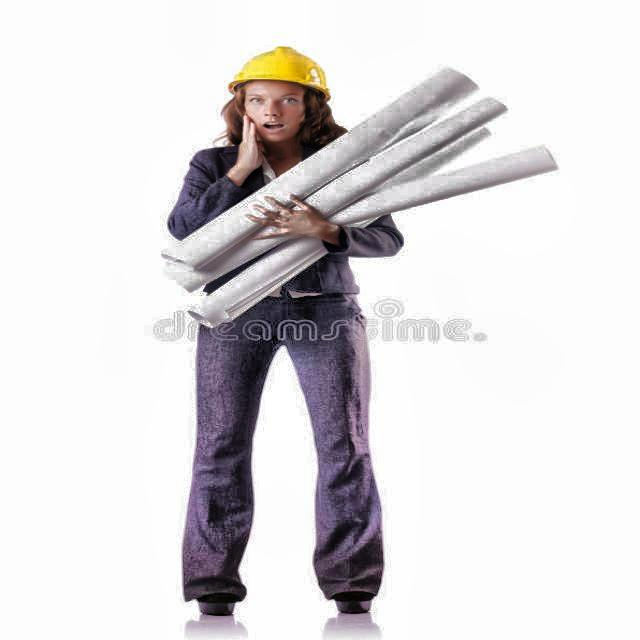person: (106, 41, 539, 640)
